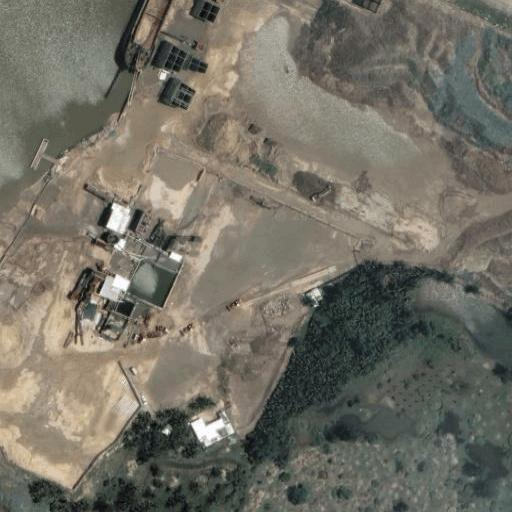building: (123, 246, 181, 306), (183, 402, 234, 451), (99, 199, 139, 240), (157, 74, 194, 110), (93, 303, 128, 341), (94, 267, 127, 303), (80, 291, 107, 323), (130, 210, 154, 237)
